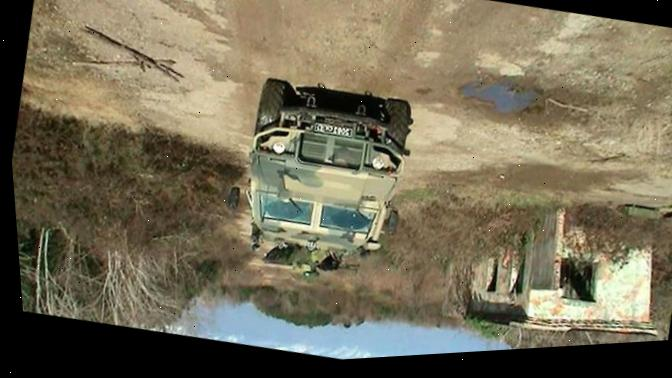armored_car: (205, 61, 430, 293)
